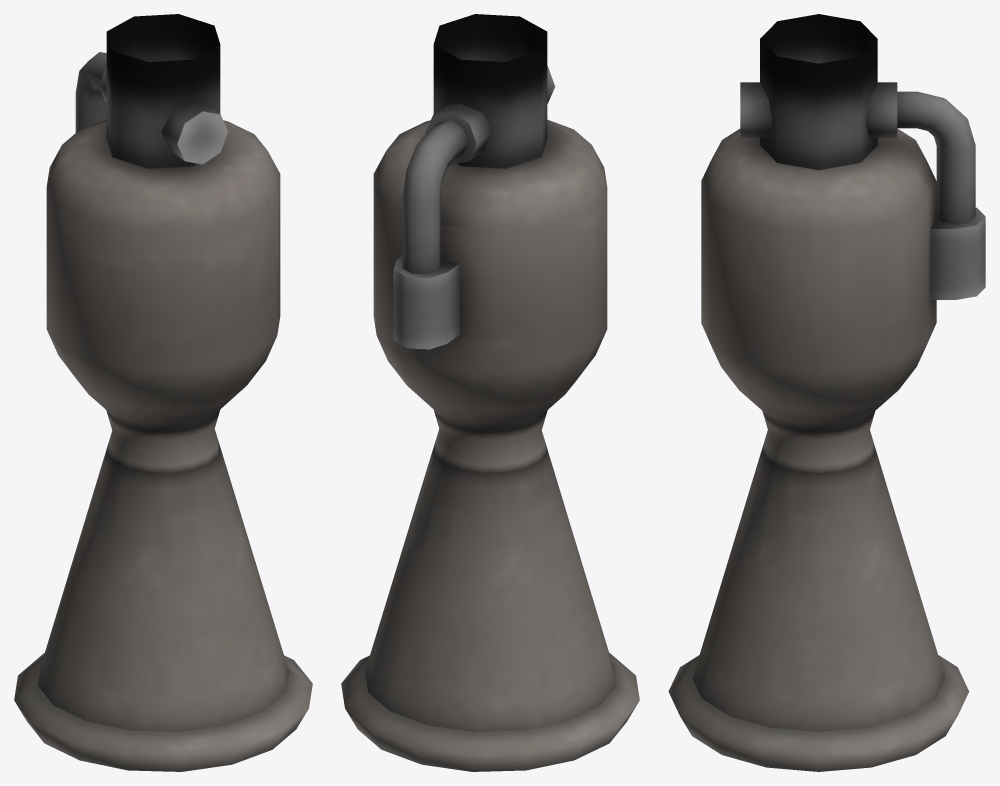
Rendered from black_knight_engine_s0_1_nozzle.obj.
3 renders of one model, left to right at view 1: azimuth 30°, elevation 25°; view 2: azimuth 150°, elevation 25°; view 3: azimuth 270°, elevation 25°, orthographic.
Visible parts, largest first — view 1: nozzle2; view 2: nozzle2; view 3: nozzle2.
Boxes of the visible parts, bbox=[...] form: nozzle2: bbox=[14, 14, 312, 771]; nozzle2: bbox=[341, 14, 639, 771]; nozzle2: bbox=[668, 14, 985, 771].
Bounding box in the file's own units: 0.1918 × 0.475 × 0.2021.
Materials: 1 (1 with a texture image).
